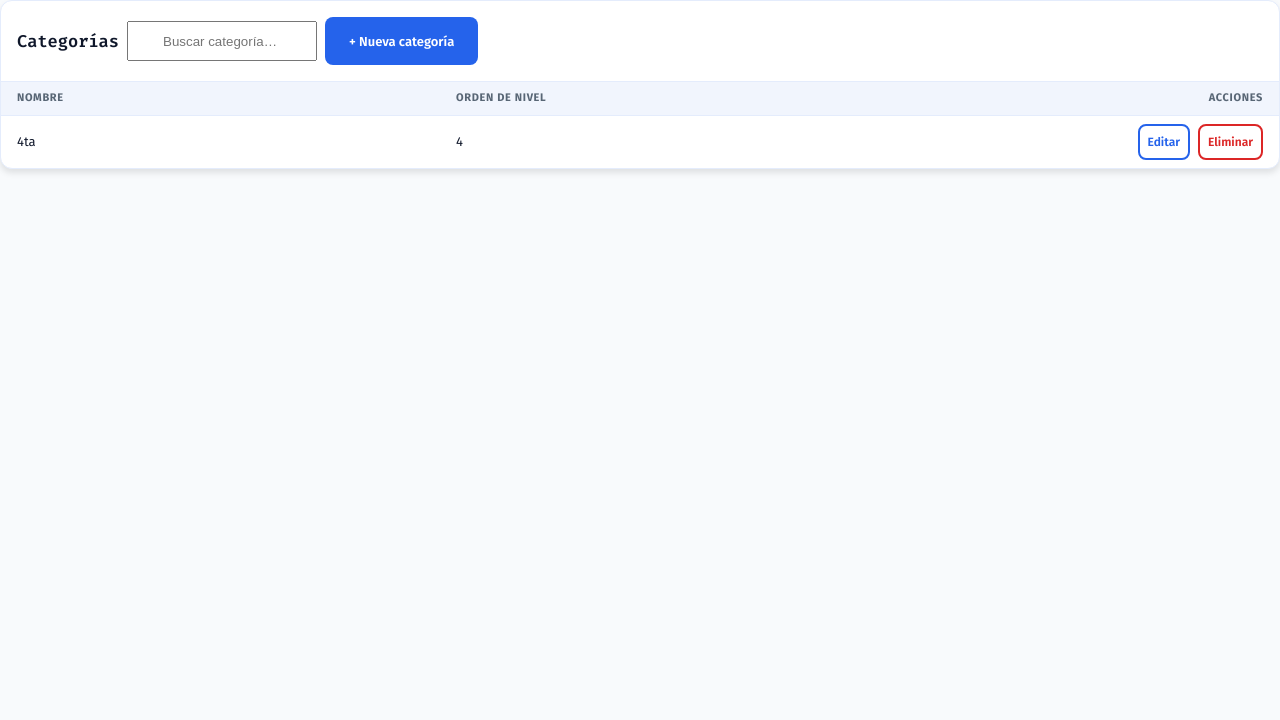
Test case: CategoriasPageComponent › un guardado fallido muestra el error DENTRO del modal y NO borra la tabla
Click the button "+ Nueva categoría" at (402, 41), box [325,17,478,65]
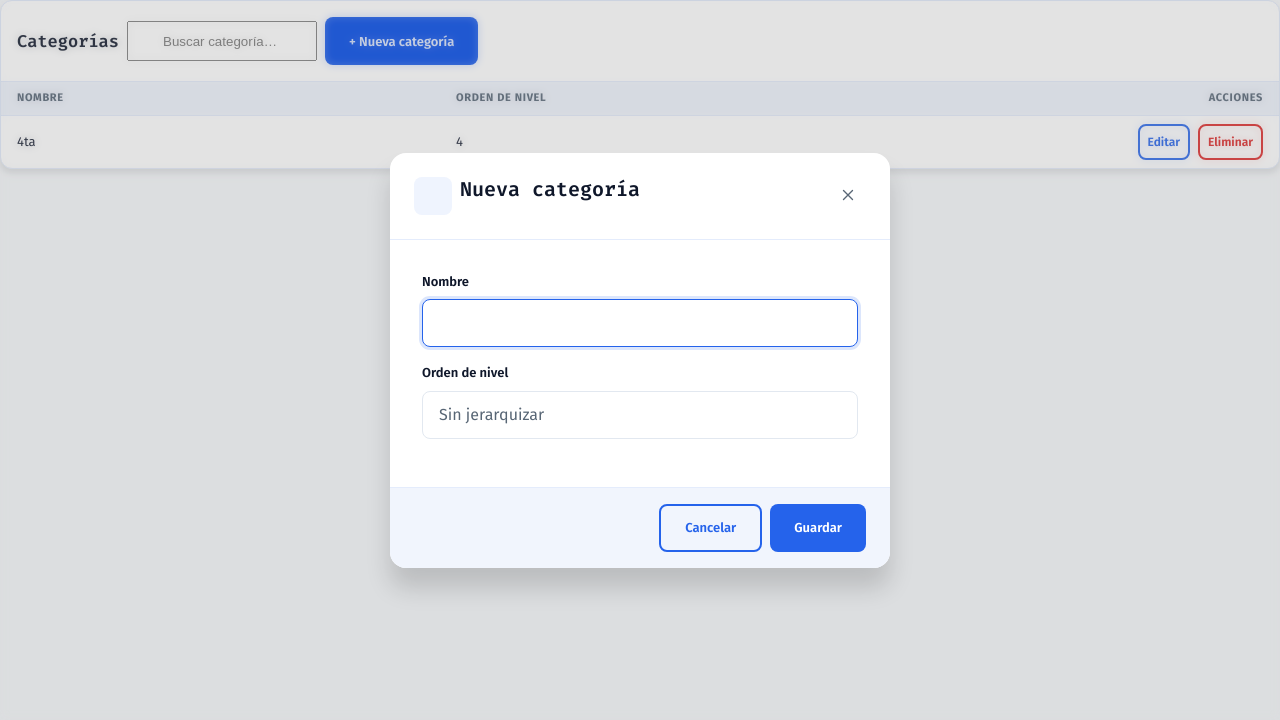
Click the button with test id "save" at (818, 528), box [770,504,866,552]
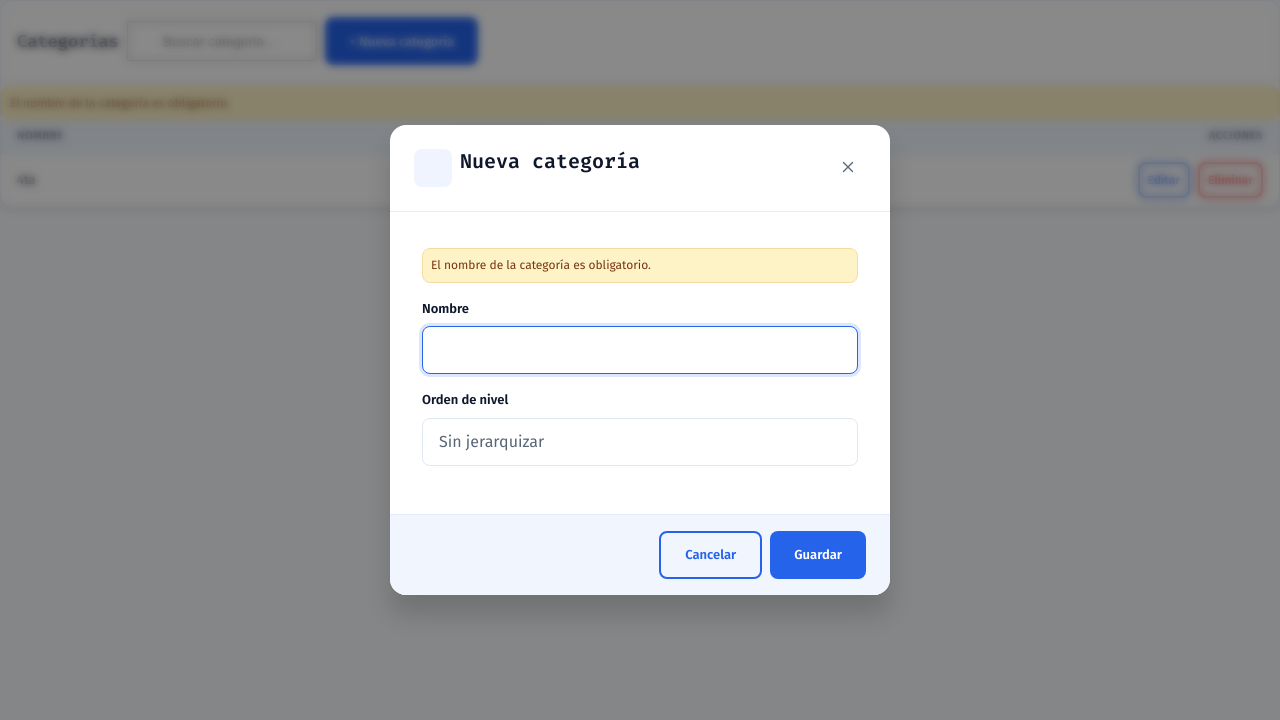
Result: the text "El nombre de la categoría es obligatorio." is shown at [1,86,1279,120]
